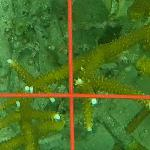alive: (5, 2, 147, 148)
